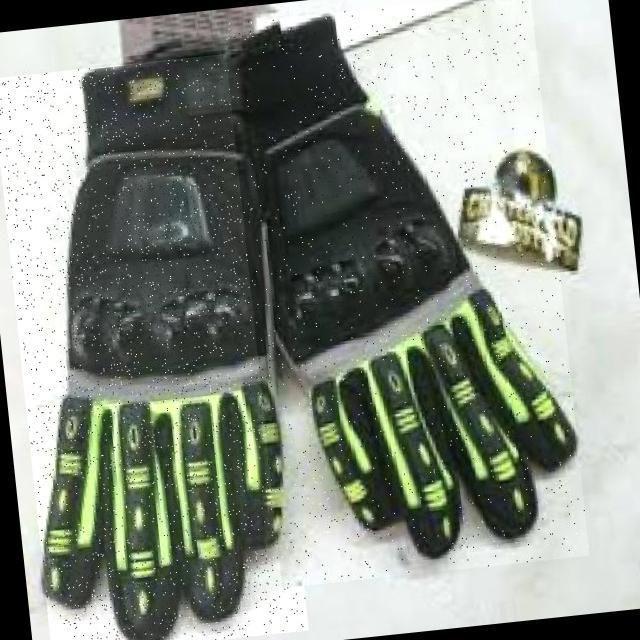Gloves: (222, 0, 589, 587), (0, 51, 308, 640)
